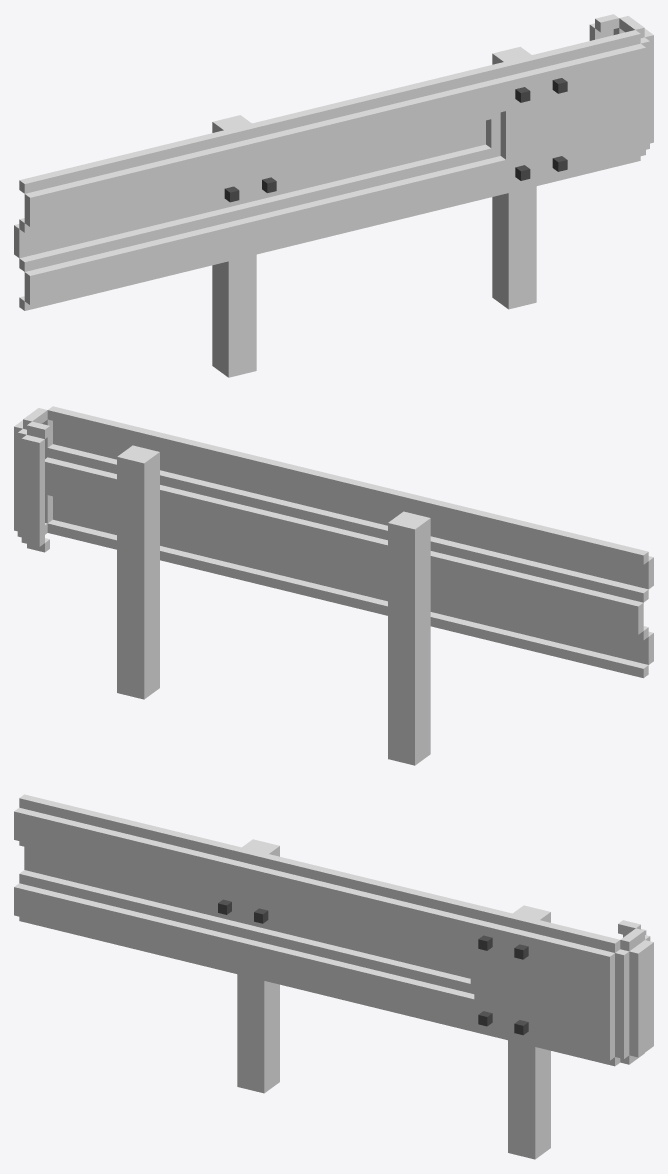
The model's file is guardrail3.fbx.
The picture shows the model from 3 angles, top to bottom: view 1: azimuth 30°, elevation 25°; view 2: azimuth 150°, elevation 25°; view 3: azimuth 330°, elevation 25°; orthographic projection. The views are drawn at different scales.
Parts seen in each view (by area): view 1: guardrail3; view 2: guardrail3; view 3: guardrail3.
Boxes of the visible parts, <box> form: guardrail3: <box>14,14,653,377</box>; guardrail3: <box>14,406,653,765</box>; guardrail3: <box>14,794,653,1159</box>.
Size of the model in its own units: 6800 by 2600 by 800.
Materials: 1 (1 with a texture image).
